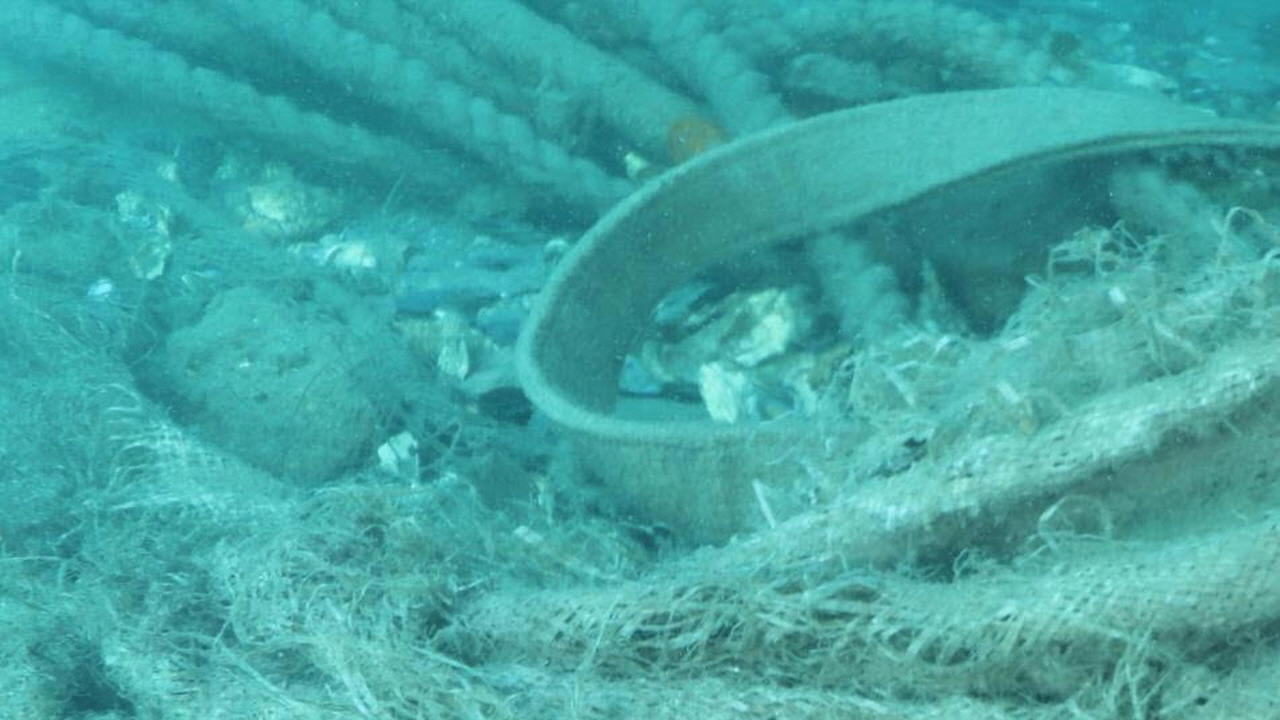bundle of ropes: (1, 0, 1280, 360)
